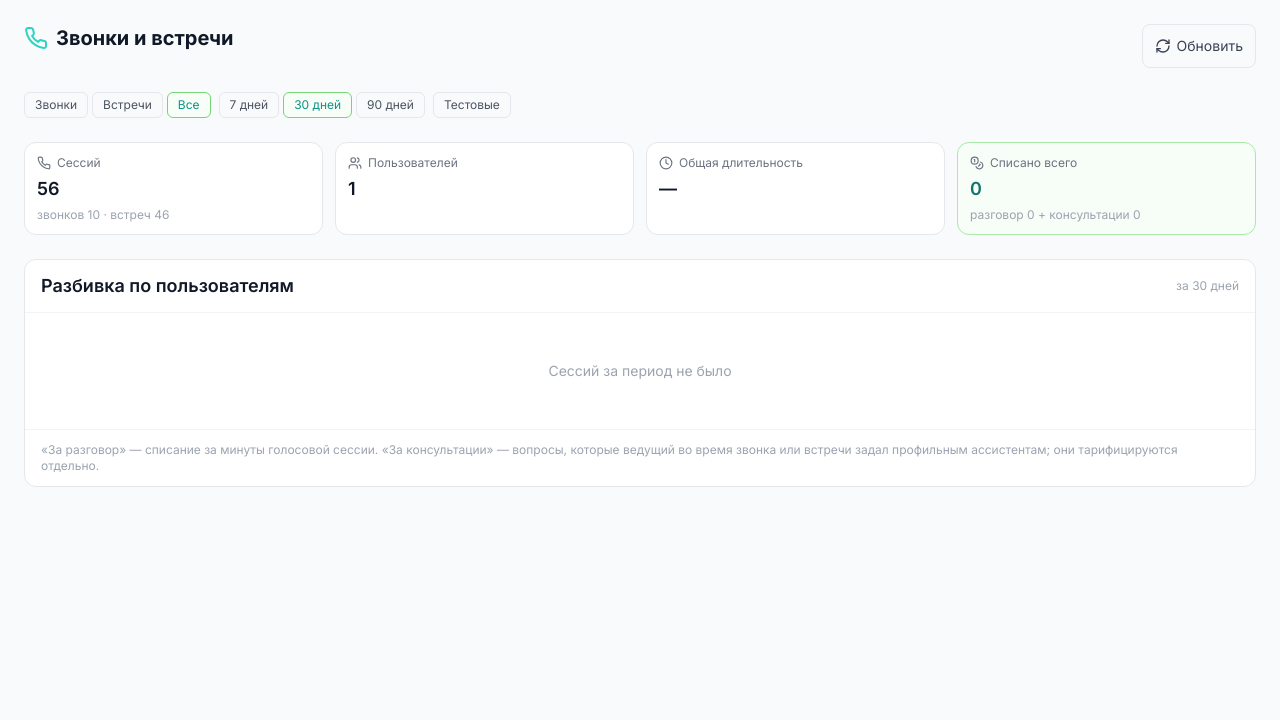
it: AdminCallsView › кнопки площадок строятся по ответу «Встреч», а не по ответу прошлой вкладки
The width and height of the screenshot is (1280, 720).
Click the button "Встречи": (127, 105) left=92, top=92, right=163, bottom=118
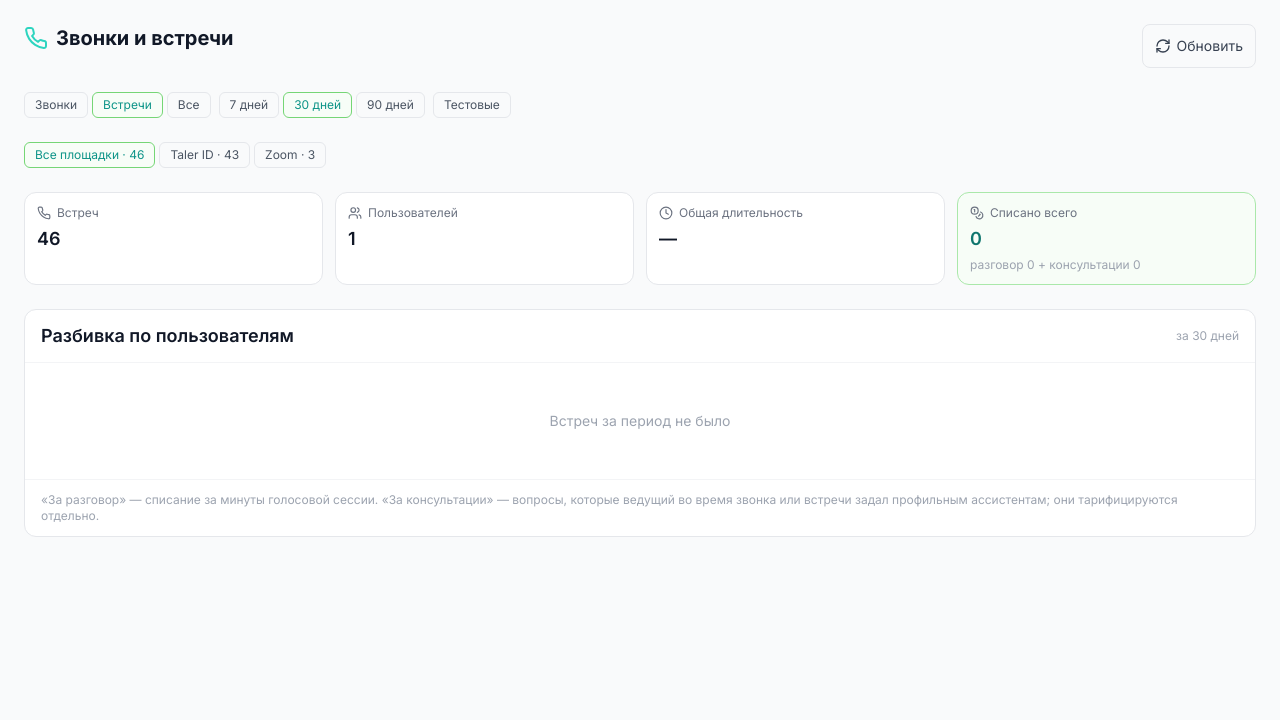
Now the button "Taler ID · 43" is shown, box left=159, top=142, right=250, bottom=168
